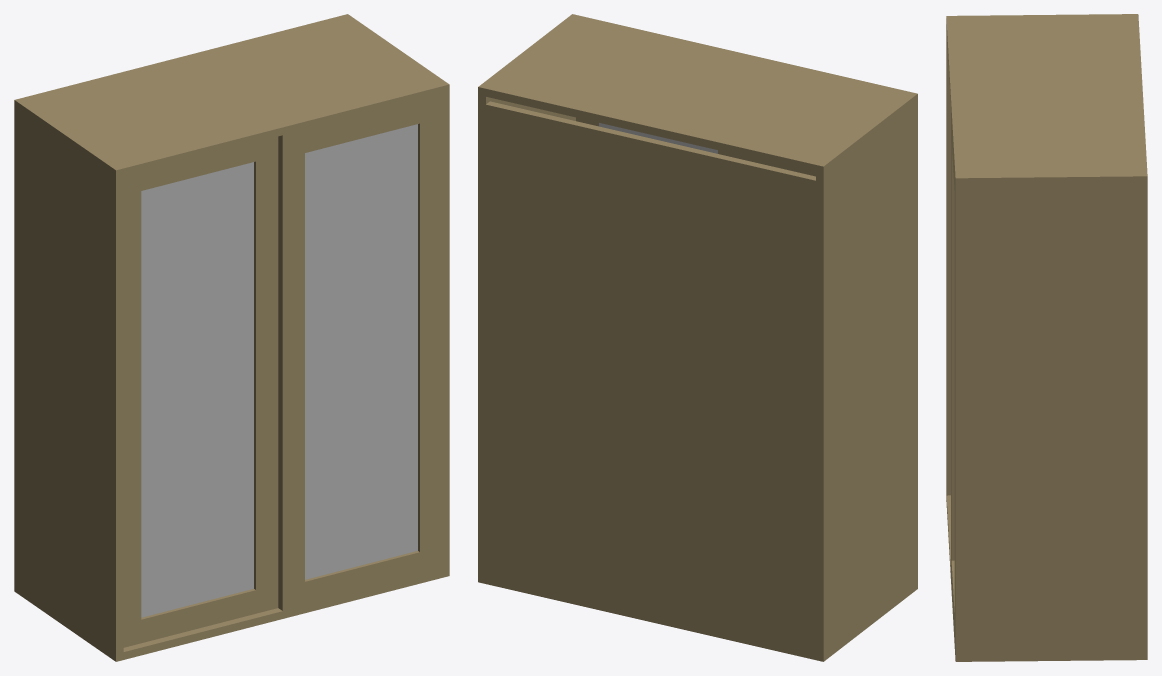
File: wardrobe.fbx
The picture shows the model from 3 angles, left to right: view 1: azimuth 30°, elevation 25°; view 2: azimuth 150°, elevation 25°; view 3: azimuth 270°, elevation 25°; orthographic projection. The views are drawn at different scales.
Visible parts, largest first — view 1: polySurface29, polySurface31, polySurface33, polySurface26, polySurface30, polySurface32, polySurface28, polySurface27; view 2: polySurface34, polySurface29, polySurface26, polySurface28, polySurface27; view 3: polySurface28, polySurface26, polySurface30, polySurface29, polySurface27.
Boxes of the visible parts, x1,y1,x2,y2 form: polySurface29: [14, 108, 123, 661]; polySurface31: [305, 124, 417, 579]; polySurface33: [141, 162, 253, 617]; polySurface26: [14, 14, 449, 177]; polySurface30: [278, 94, 441, 610]; polySurface32: [123, 136, 278, 647]; polySurface28: [442, 92, 449, 577]; polySurface27: [123, 570, 441, 659]; polySurface34: [486, 101, 815, 659]; polySurface29: [816, 102, 917, 661]; polySurface26: [478, 14, 917, 174]; polySurface28: [478, 95, 575, 583]; polySurface27: [486, 576, 815, 659]; polySurface28: [955, 184, 1147, 661]; polySurface26: [946, 14, 1147, 185]; polySurface30: [951, 109, 955, 646]; polySurface29: [946, 26, 950, 501]; polySurface27: [946, 495, 955, 654].
Size of the model in its own units: 91.05 by 125 by 47.14.
